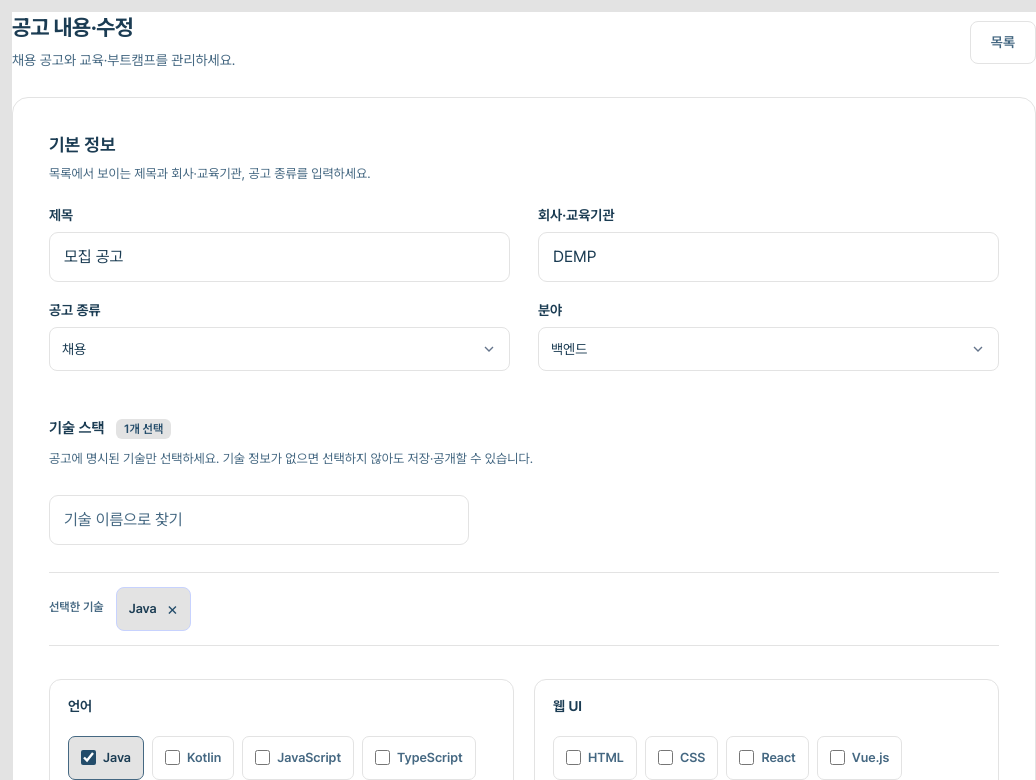
Test: 검색 결과가 없어도 검색을 바로 초기화하고 기존 선택을 유지한다
Type "없는 기술" into the search field named "관리자 기술 스택 검색" at (259, 520), box 49,494 -> 469,544
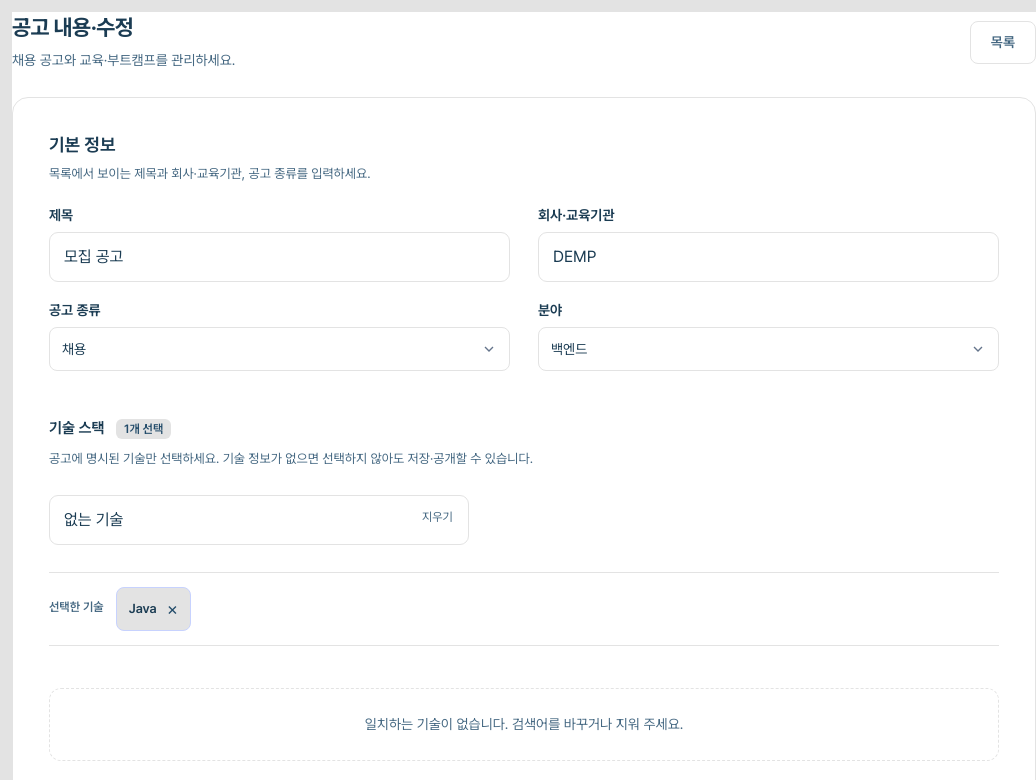
expect the element named "선택한 기술 스택" shows "Java": met, box 116,586 -> 191,630
expect the message "일치하는 기술이 없습니다. 검색어를 바꾸거나 지워 주세요." is shown: met, box 49,688 -> 999,761
Click the button with aria-label "기술 검색어 지우기" at (437, 516), box 410,494 -> 465,538
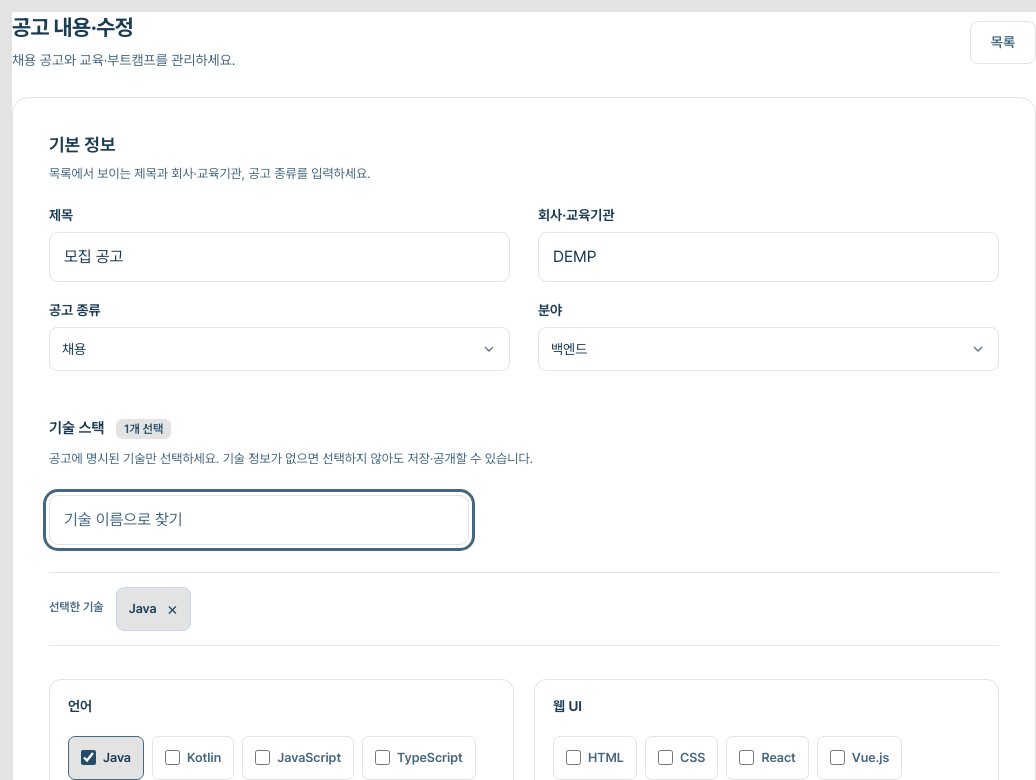
expect the search field named "관리자 기술 스택 검색" is empty: met, box 49,494 -> 469,544
expect the checkbox labelled "Java" is checked: met, box 81,750 -> 96,765
